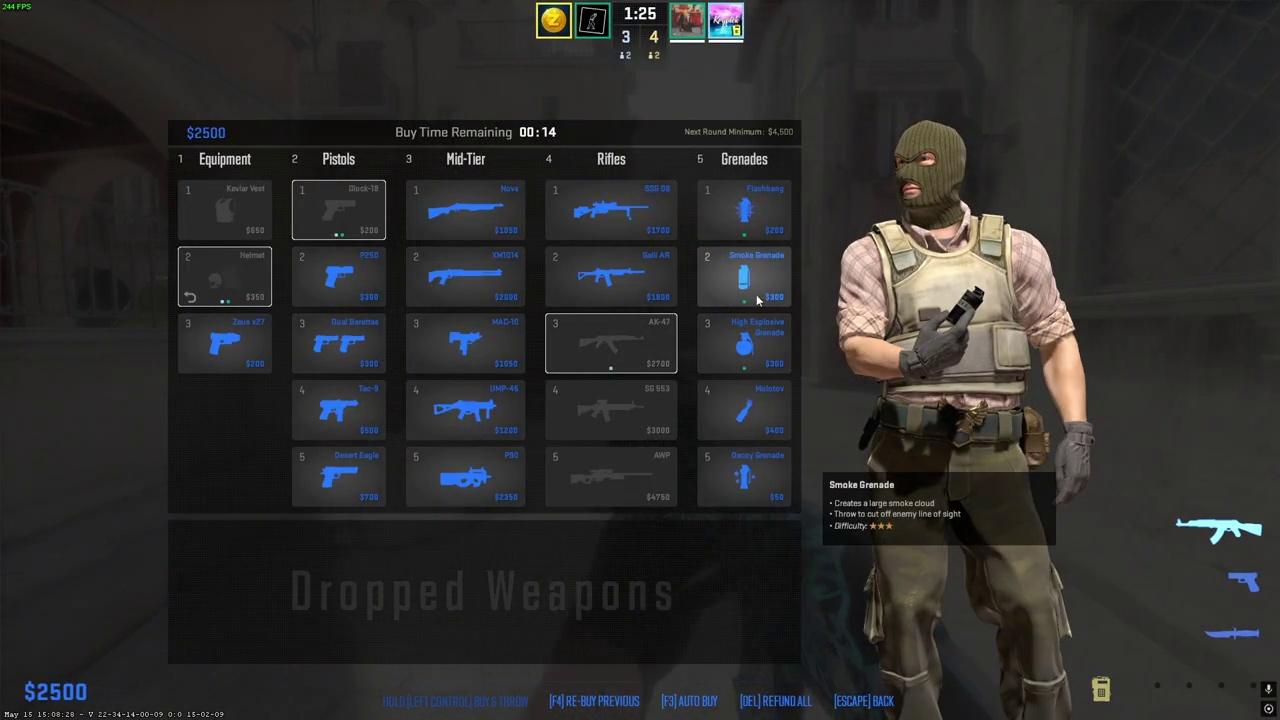Terrorist: (849, 120, 1077, 720)
